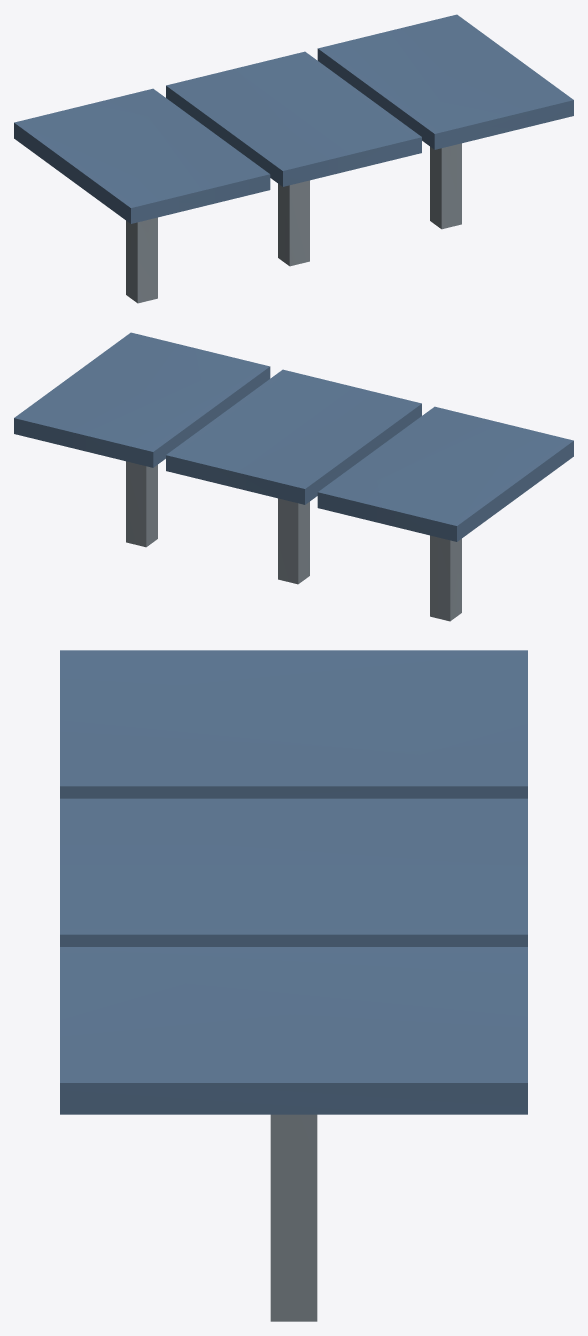
Rendered from solar_array-07.glb.
The picture shows the model from 3 angles, top to bottom: view 1: azimuth 30°, elevation 25°; view 2: azimuth 150°, elevation 25°; view 3: azimuth 270°, elevation 25°; orthographic projection. The views are drawn at different scales.
Visible parts, largest first — view 1: world; view 2: world; view 3: world.
Boxes of the visible parts, x1,y1,x2,y2 form: world: (14, 14, 573, 303); world: (14, 332, 573, 621); world: (60, 650, 527, 1321).
Size of the model in its own units: 1.75 by 0.56 by 0.8.
